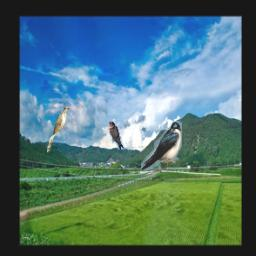Cuckoo: (47, 107, 70, 153)
Swallow: (140, 122, 181, 171), (107, 121, 124, 150)
